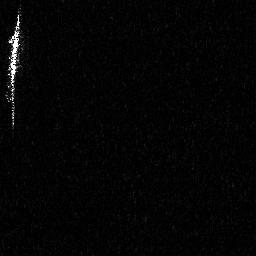ship: (3, 12, 26, 132)
